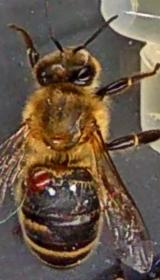varroa_mite: (26, 166, 56, 194)
